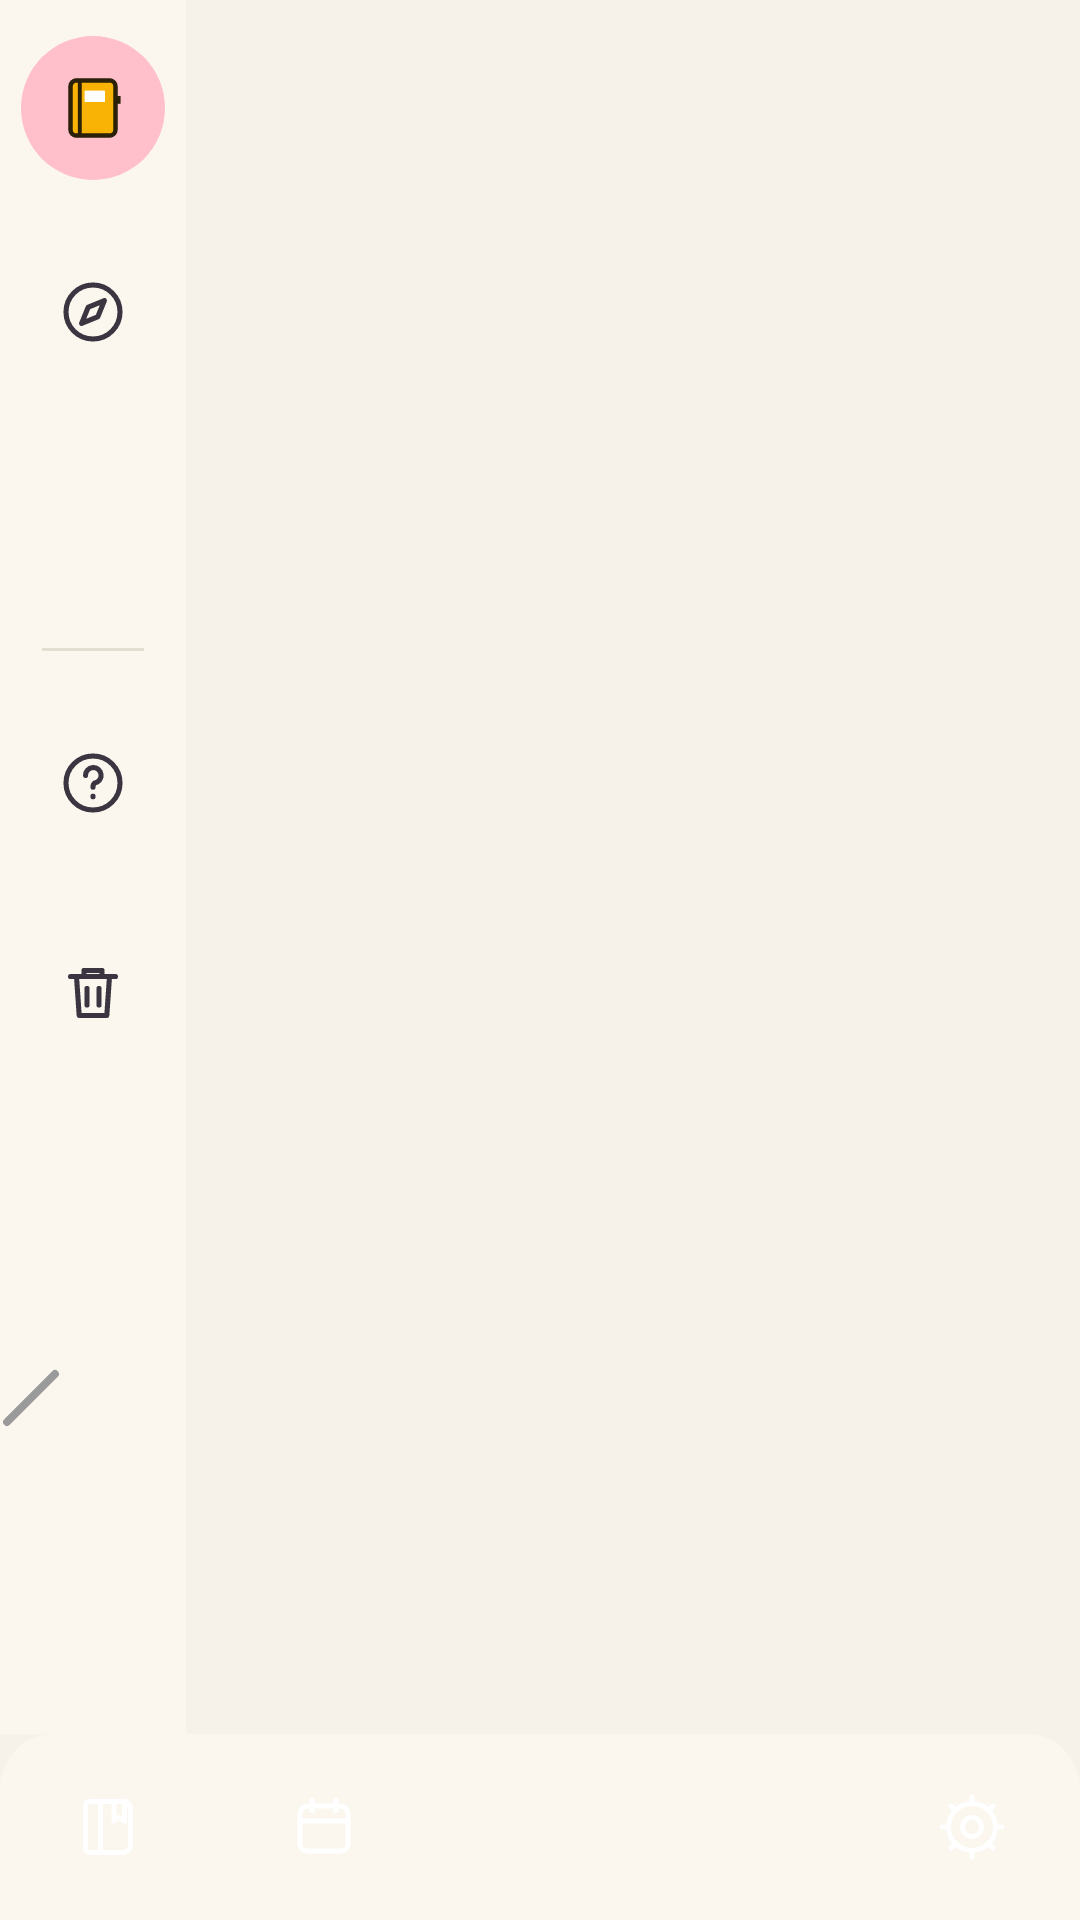

Screen size 1080px x 1920px. Icon name, then its center in pixels as (x,y):
Ayuda: (93,783)
Descubrir: (93,312)
Papelera: (93,993)
rail journal: (93,108)
